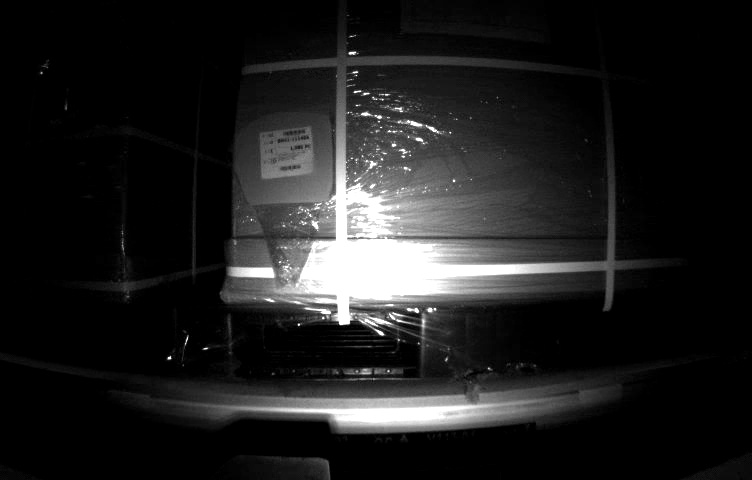True Barcode: (257, 129, 317, 177)
